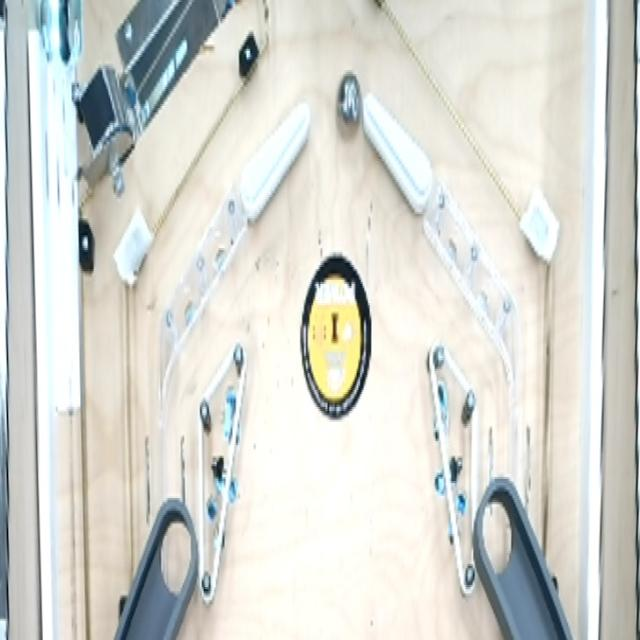ball: (333, 69, 365, 145)
flipper-left: (364, 79, 436, 241)
flipper-right: (238, 86, 315, 226)
